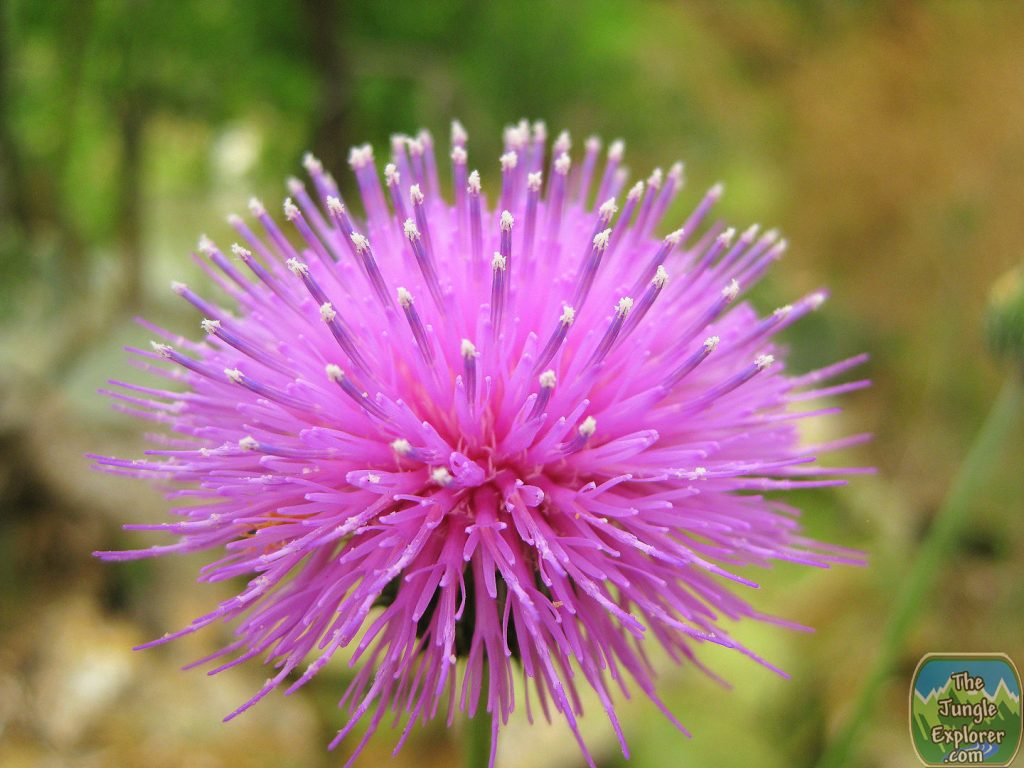thistle: (130, 125, 866, 744)
